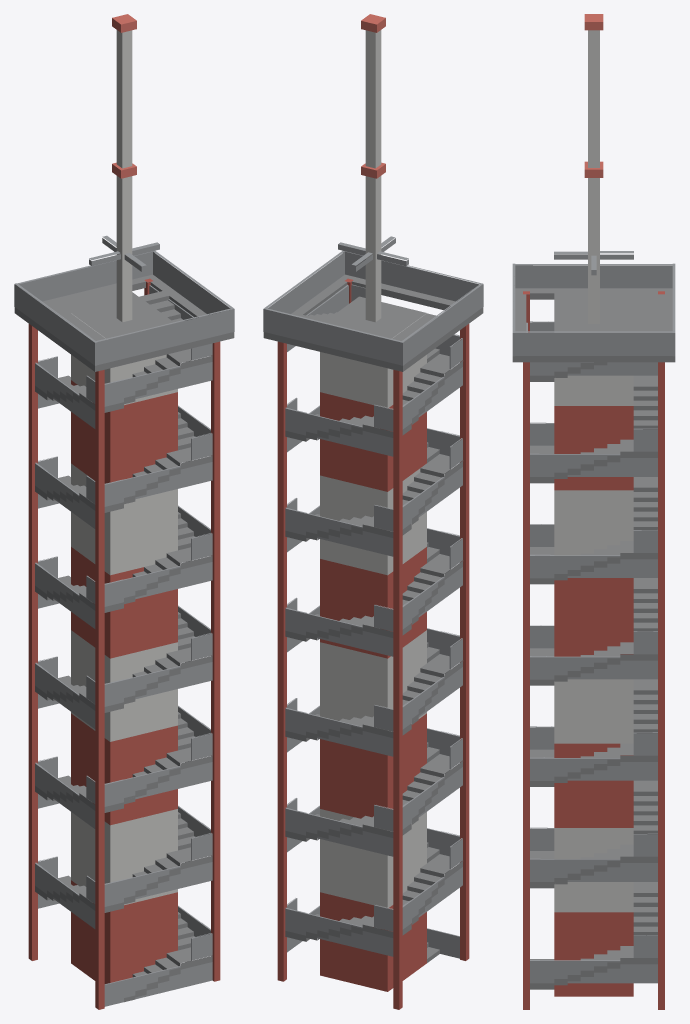
Rendered from sniper-mast.zfix-v14.lod0.glb.
3 renders of one model, left to right at view 1: azimuth 30°, elevation 25°; view 2: azimuth 150°, elevation 25°; view 3: azimuth 270°, elevation 25°, orthographic.
Visible parts, largest first — view 1: sniper-mast; view 2: sniper-mast; view 3: sniper-mast.
Boxes of the visible parts, <box> form: sniper-mast: <box>14,14,234,1009</box>; sniper-mast: <box>263,14,483,1009</box>; sniper-mast: <box>512,14,675,1009</box>.
Bounding box in the file's own units: 7.03 × 45.63 × 7.03.
